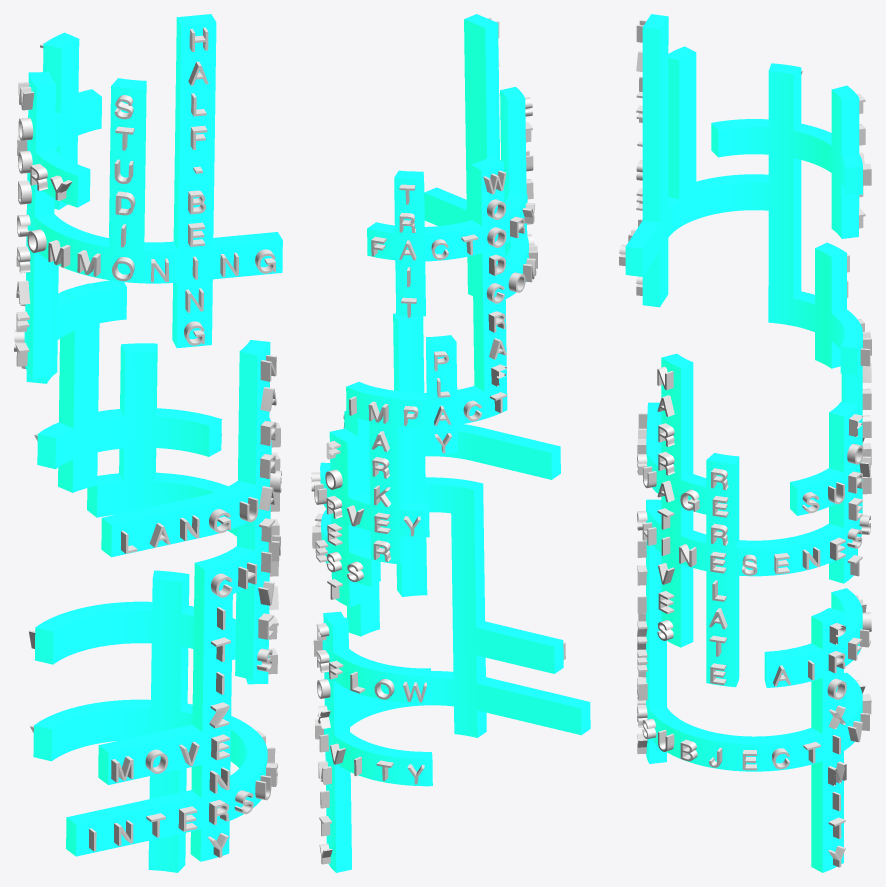
Rendered from PHD3js.glb.
The picture shows the model from 3 angles, left to right: view 1: azimuth 30°, elevation 25°; view 2: azimuth 150°, elevation 25°; view 3: azimuth 270°, elevation 25°; orthographic projection. The views are drawn at different scales.
Parts seen in each view (by area): view 1: Object_1; view 2: Object_1; view 3: Object_1.
Boxes of the visible parts, <box> form: Object_1: <box>14,14,282,872</box>; Object_1: <box>311,14,590,872</box>; Object_1: <box>619,14,871,872</box>.
Size of the model in its own units: 4.56 by 16.47 by 4.63.
